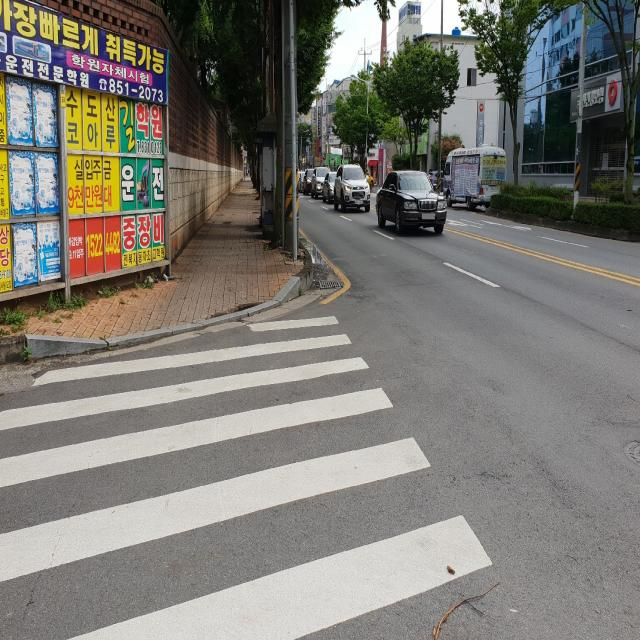횡단보도: (1, 308, 496, 640)
